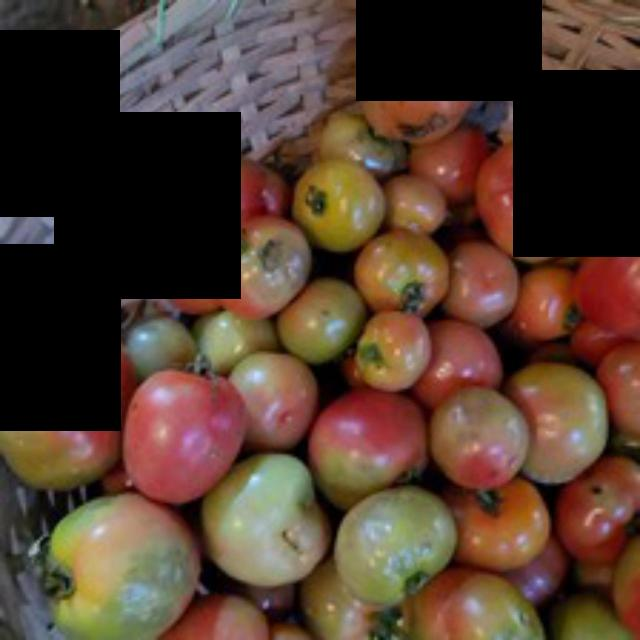tomato: (129, 367, 252, 510), (480, 140, 579, 260)
